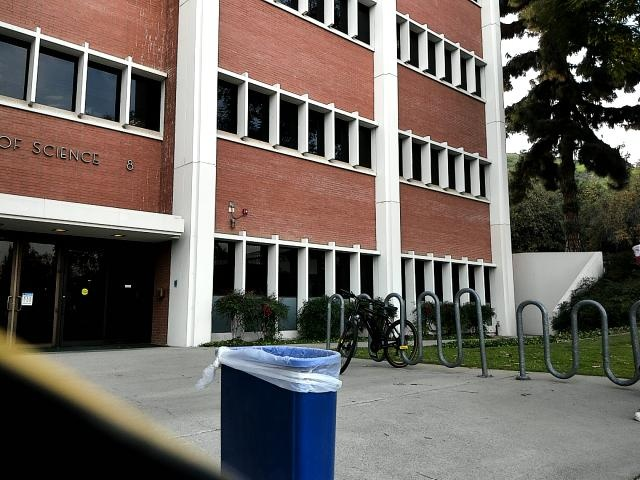trashcan_open: (211, 341, 342, 480)
